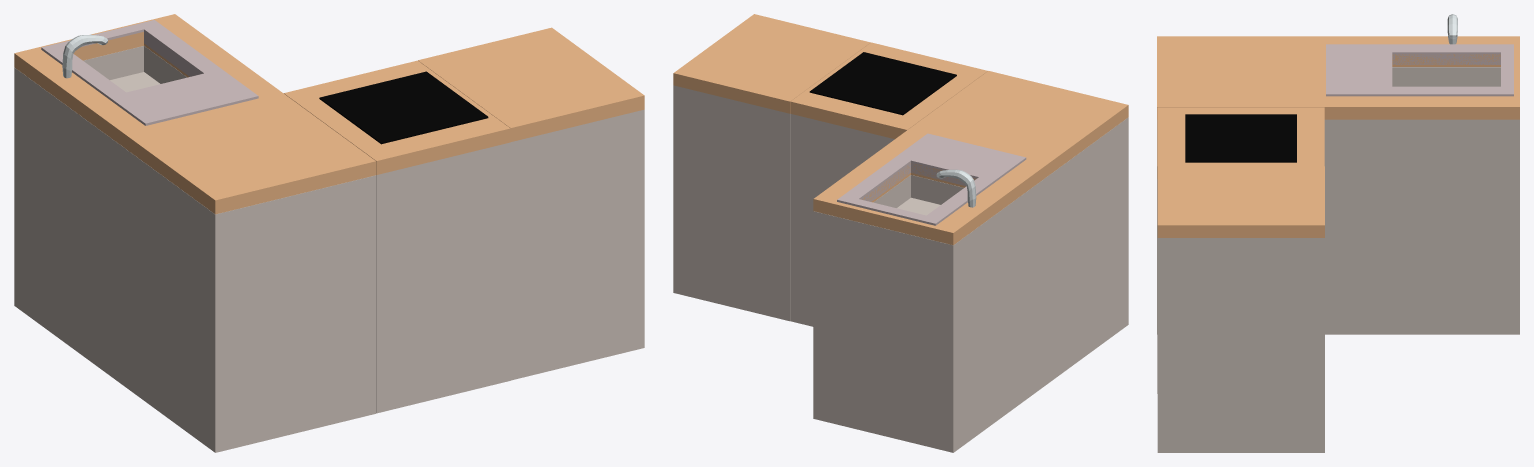
The model's file is Küche.fbx.
3 views of the same model, side by side, from view 1: azimuth 30°, elevation 25°; view 2: azimuth 150°, elevation 25°; view 3: azimuth 270°, elevation 25° (orthographic). The views are drawn at different scales.
Visible parts, largest first — view 1: Wasserhahn; view 2: Wasserhahn; view 3: Wasserhahn.
Part boxes in pixels (x1,y1,x2,y2): Wasserhahn: [14, 14, 644, 452]; Wasserhahn: [673, 14, 1128, 452]; Wasserhahn: [1157, 14, 1519, 452].
Size of the model in its own units: 160 by 103 by 130.
